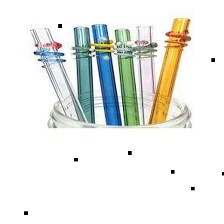drinking_straw: (27, 24, 87, 130), (146, 11, 193, 128), (87, 19, 125, 129)
glass: (41, 84, 195, 133)
